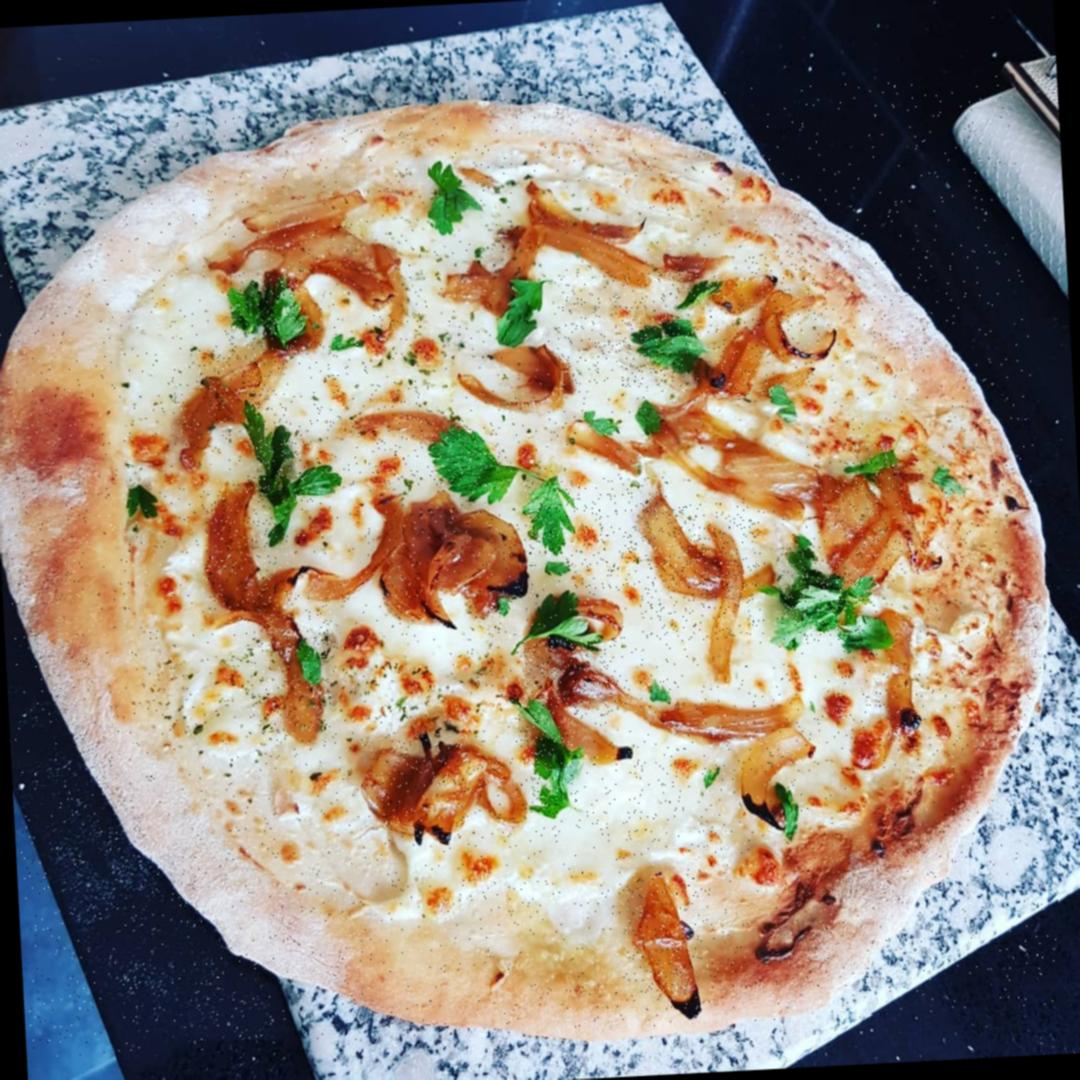Bacon: (368, 494, 516, 634), (646, 672, 822, 780), (636, 501, 763, 644), (702, 250, 825, 388), (479, 189, 645, 290), (666, 396, 809, 512), (243, 588, 338, 746), (364, 727, 506, 829), (620, 868, 718, 1013), (816, 476, 928, 580), (448, 332, 582, 418), (166, 348, 290, 440), (199, 478, 284, 610), (834, 667, 934, 771), (257, 210, 386, 290), (516, 636, 629, 721), (567, 419, 647, 479)
Basil: (778, 543, 879, 643), (226, 268, 309, 352), (518, 711, 579, 818), (248, 416, 321, 505), (431, 422, 509, 494), (522, 478, 571, 558), (499, 276, 551, 334), (644, 312, 700, 360), (852, 442, 902, 483)
Cheese: (295, 312, 435, 492), (434, 813, 626, 943), (555, 268, 697, 392), (588, 746, 734, 851), (560, 481, 676, 590)
Pizza: (0, 73, 1063, 1059)
